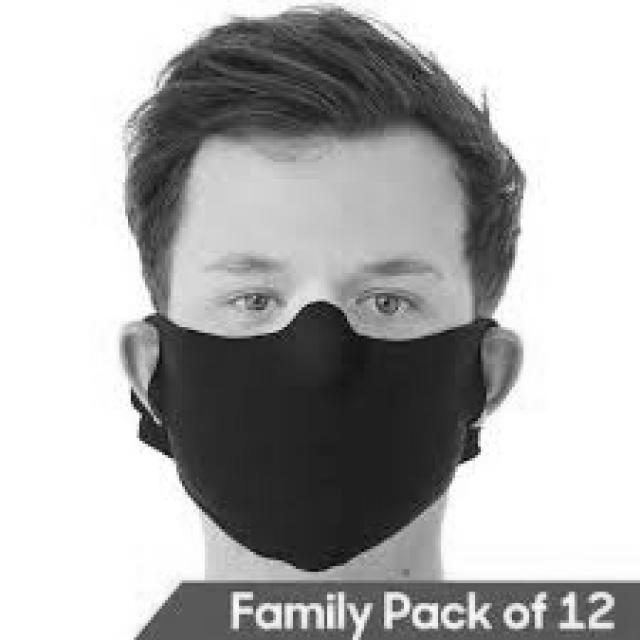fake: (128, 310, 492, 571)
real: (160, 139, 486, 557)
